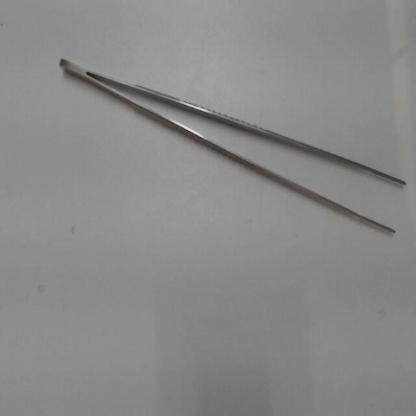DeBakey Dissector: (34, 39, 412, 243)
